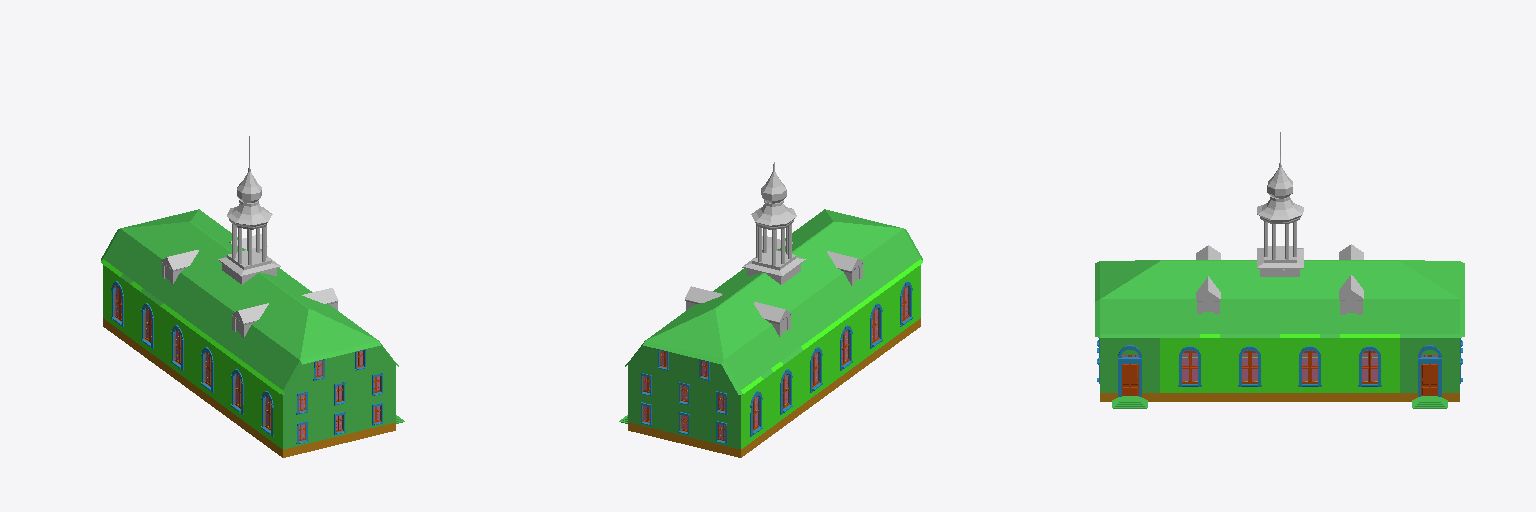
File: kirha.obj
The picture shows the model from 3 angles: view 1: azimuth 30°, elevation 25°; view 2: azimuth 150°, elevation 25°; view 3: azimuth 270°, elevation 25°; orthographic projection.
Visible parts, largest first — view 1: Cube.001; view 2: Cube.001; view 3: Cube.001.
Boxes of the visible parts, box(x1,y1,x2,y2) form: Cube.001: box(101, 136, 404, 457); Cube.001: box(619, 162, 922, 457); Cube.001: box(1095, 132, 1464, 408).
Size of the model in its own units: 7.58 by 13.37 by 18.49.